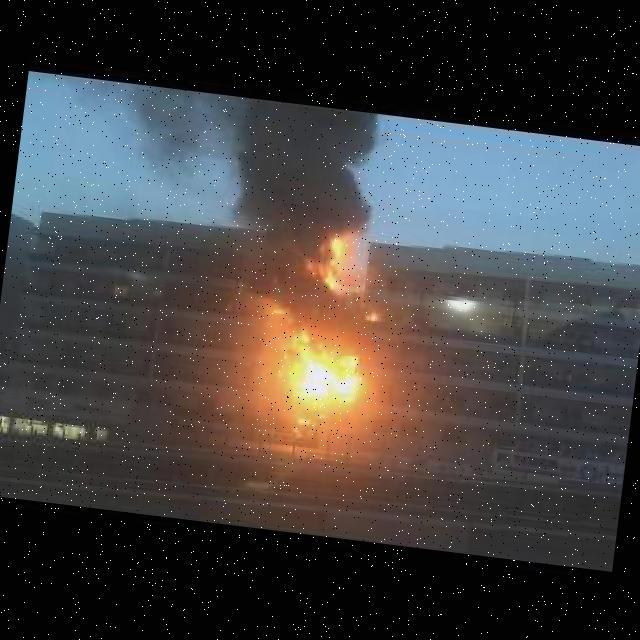Fire: (270, 330, 368, 430), (315, 229, 345, 286), (365, 308, 384, 320), (275, 303, 286, 314)
Smoke: (79, 77, 390, 234)
